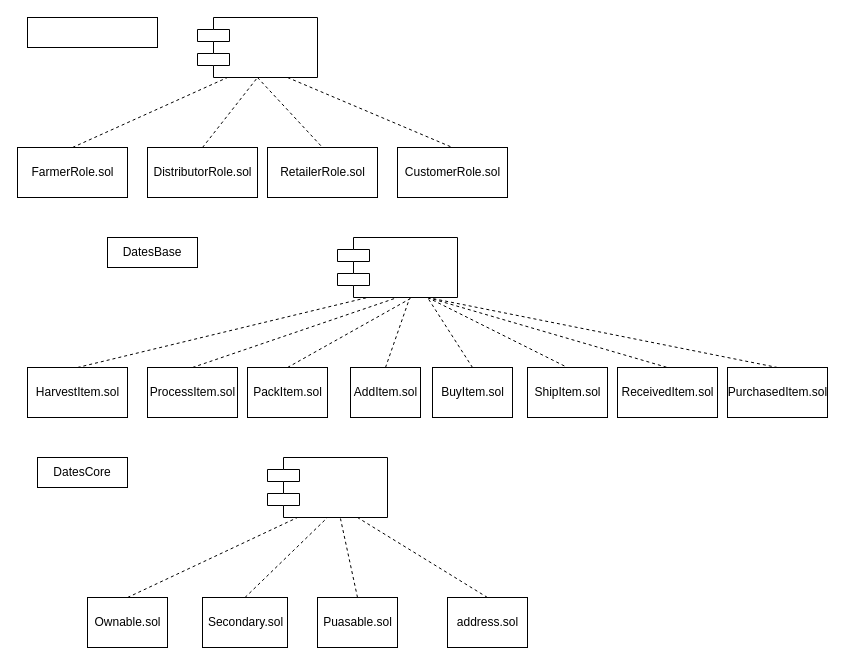
Some shapes in this 845 by 665 pixel diagram are drawn without their labels. Here are the shapes that lost their labels. From the top down, the box of each, then its label:
(26, 16, 158, 48): DatesAcessControl
(196, 16, 318, 78): Roles.sol
(336, 236, 458, 298): SupplyChain.sol
(266, 456, 388, 518): ValueChain.sol
